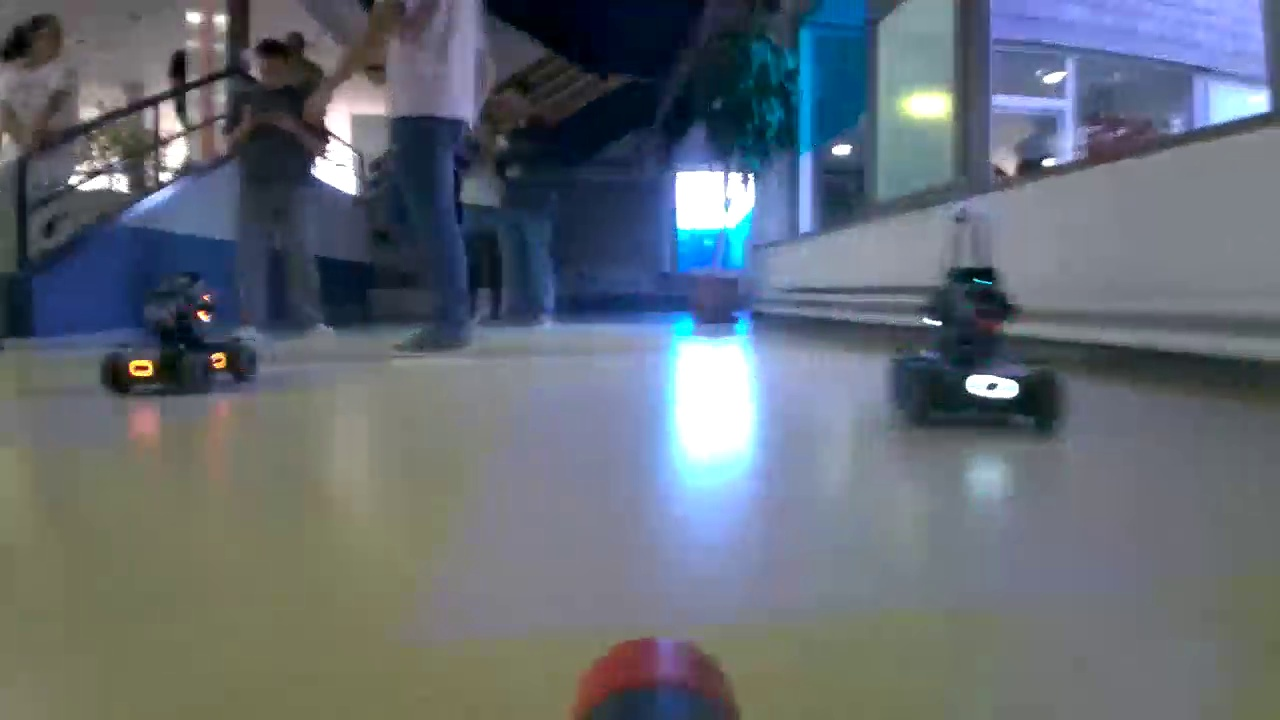robot: (892, 262, 1068, 428), (106, 276, 254, 396)
